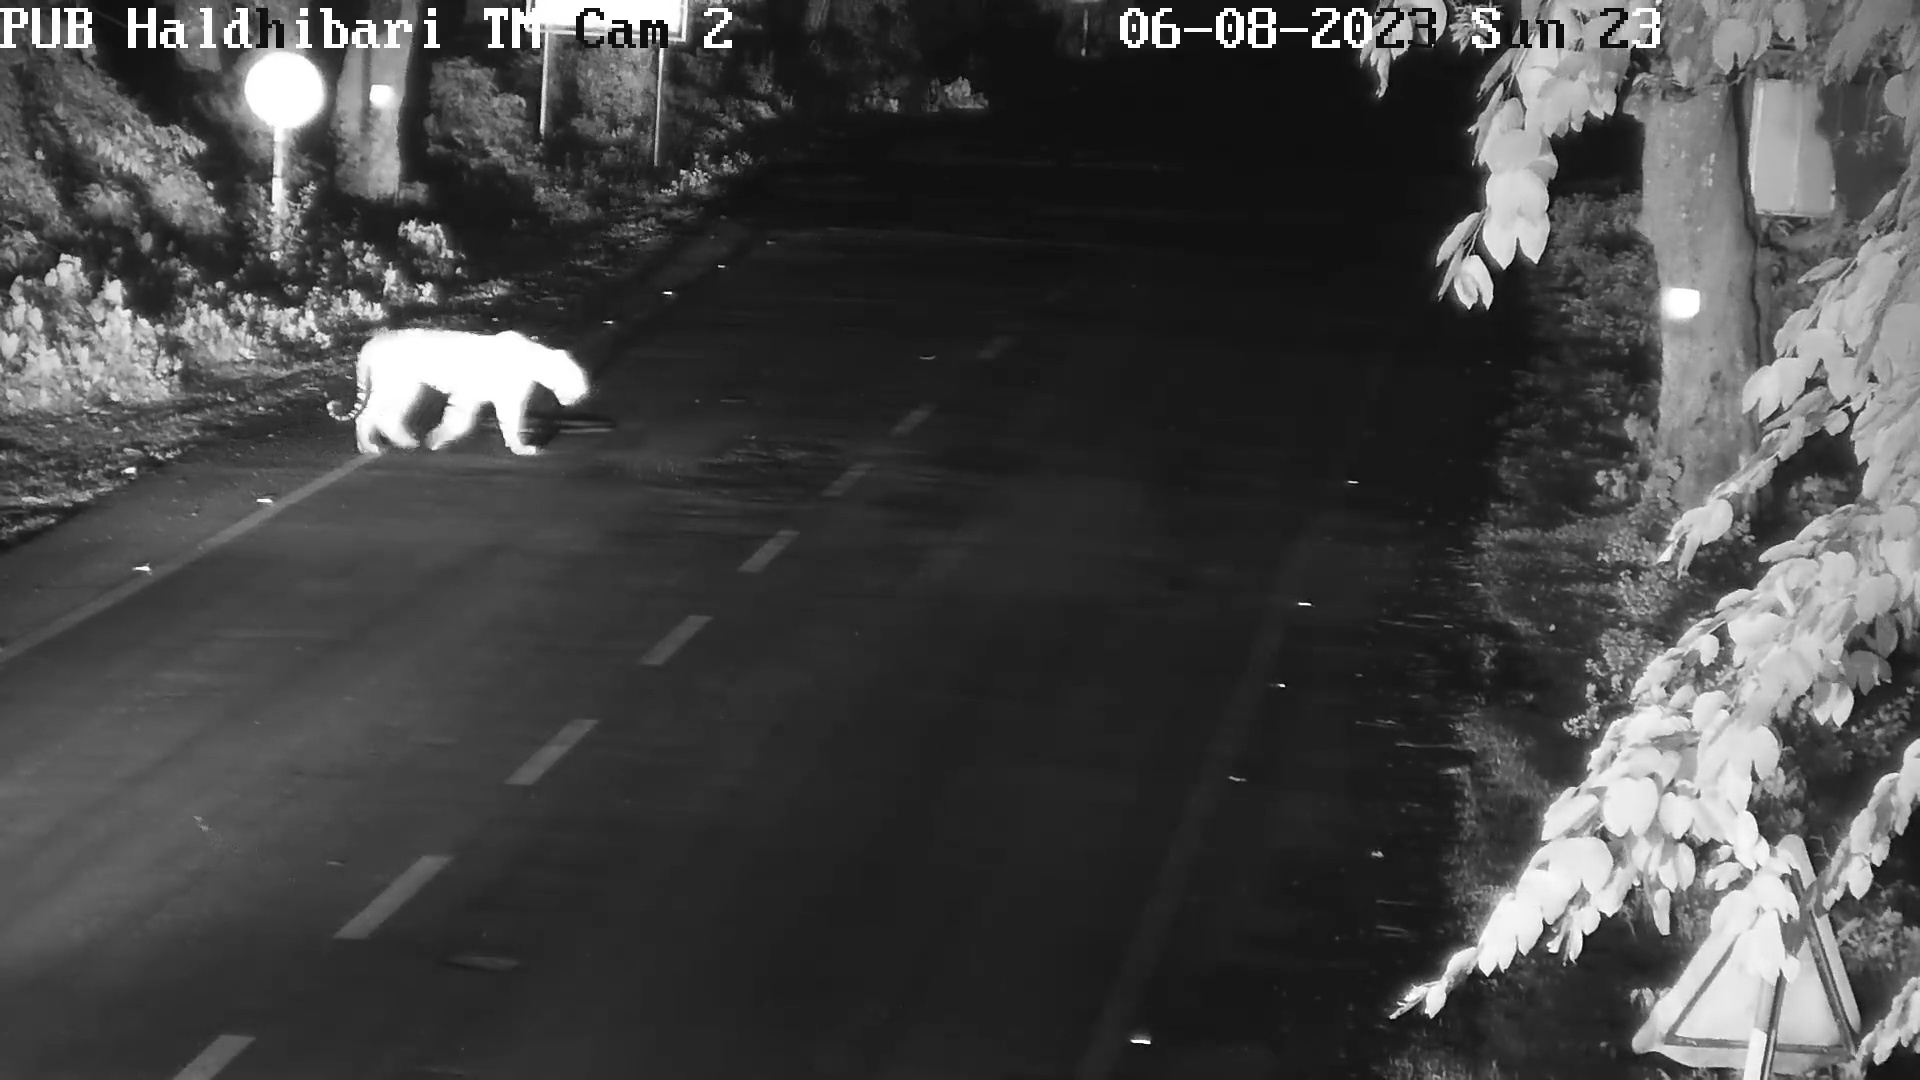tigers: (322, 322, 595, 462)
